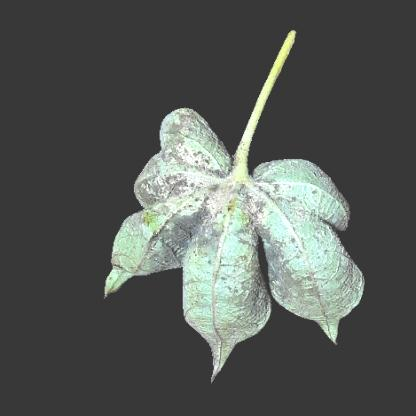curl_stage2: (291, 185, 327, 239), (195, 269, 229, 323), (315, 253, 353, 301)
sooty: (144, 144, 216, 250), (154, 208, 226, 260), (234, 178, 285, 251), (273, 248, 309, 298), (165, 111, 207, 144)
